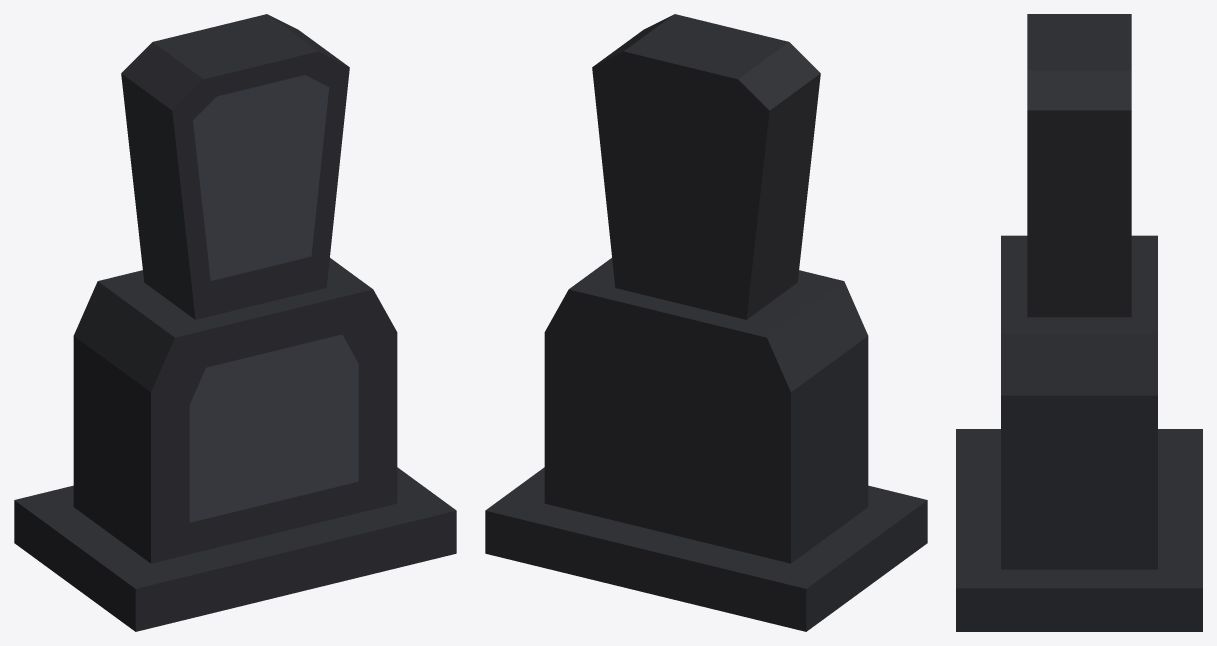
File: Tumulo1.fbx
The picture shows the model from 3 angles, left to right: view 1: azimuth 30°, elevation 25°; view 2: azimuth 150°, elevation 25°; view 3: azimuth 270°, elevation 25°; orthographic projection.
Parts seen in each view (by area): view 1: Cube.285; view 2: Cube.285; view 3: Cube.285.
Boxes of the visible parts, left/top/right/bottom form: Cube.285: left=14, top=14, right=456, bottom=631; Cube.285: left=485, top=14, right=927, bottom=631; Cube.285: left=956, top=14, right=1202, bottom=631.
Bounding box in the file's own units: 107 × 160 × 70.31.
